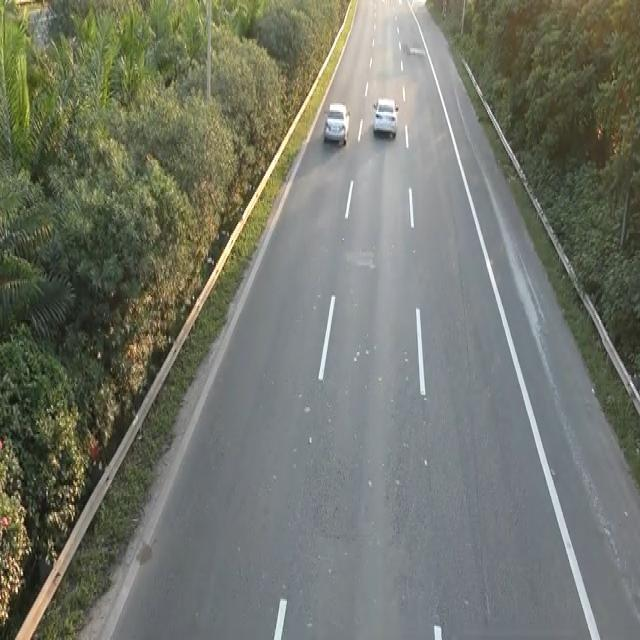bus: (322, 100, 350, 146), (371, 94, 399, 139)
